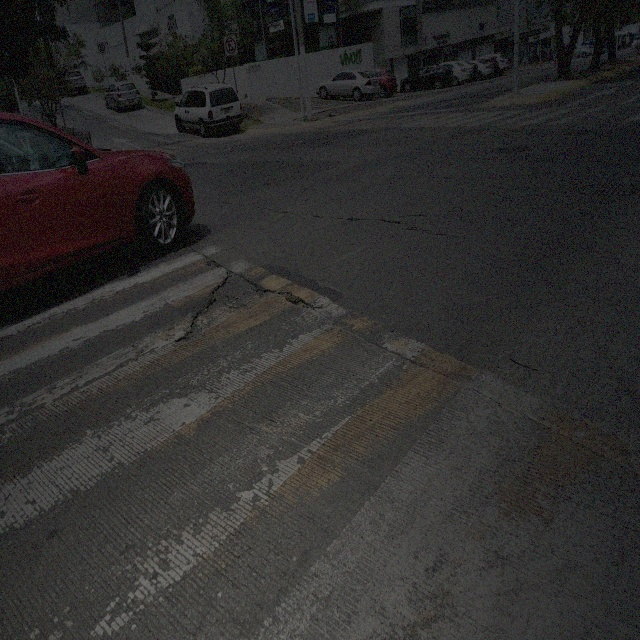pothole: (186, 260, 267, 342), (279, 282, 306, 309)
